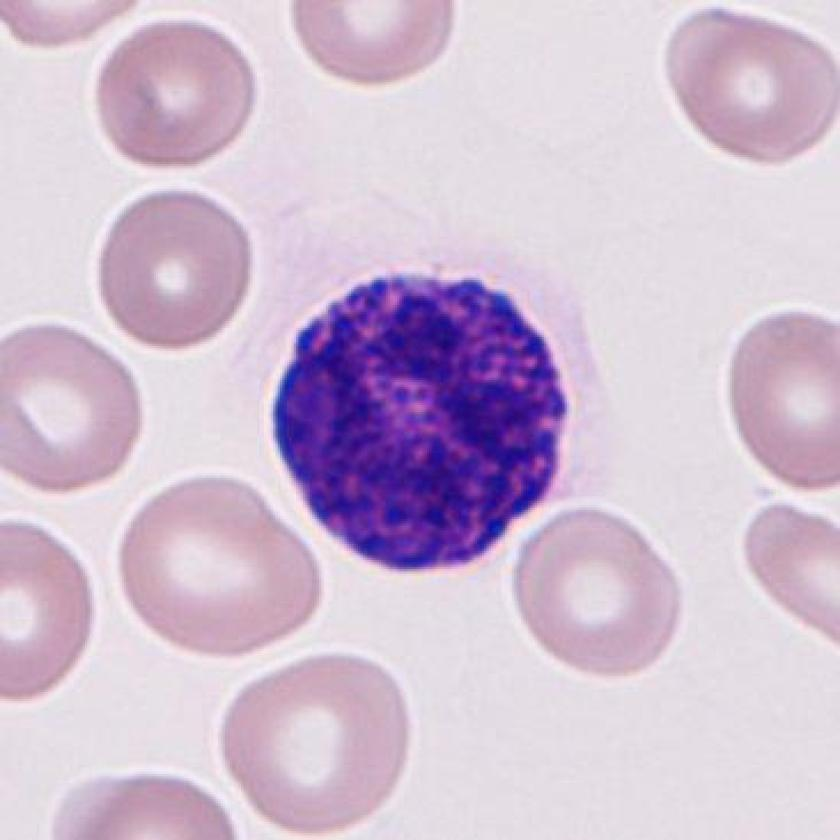basophil: (261, 265, 580, 582)
